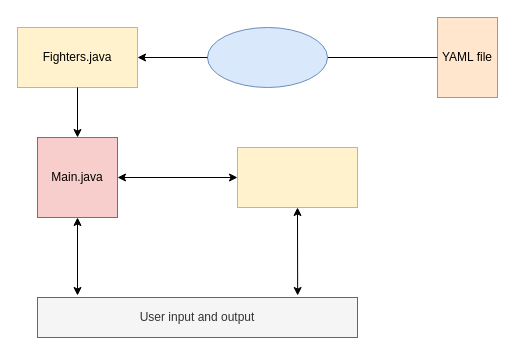
The diagram is 515 pixels wide and 355 high, and some of its shapes have lost their labels. Each missing label, with the centre of its shape:
"Arena.java" belongs at point (297, 177).
"read fighters" belongs at point (267, 57).
